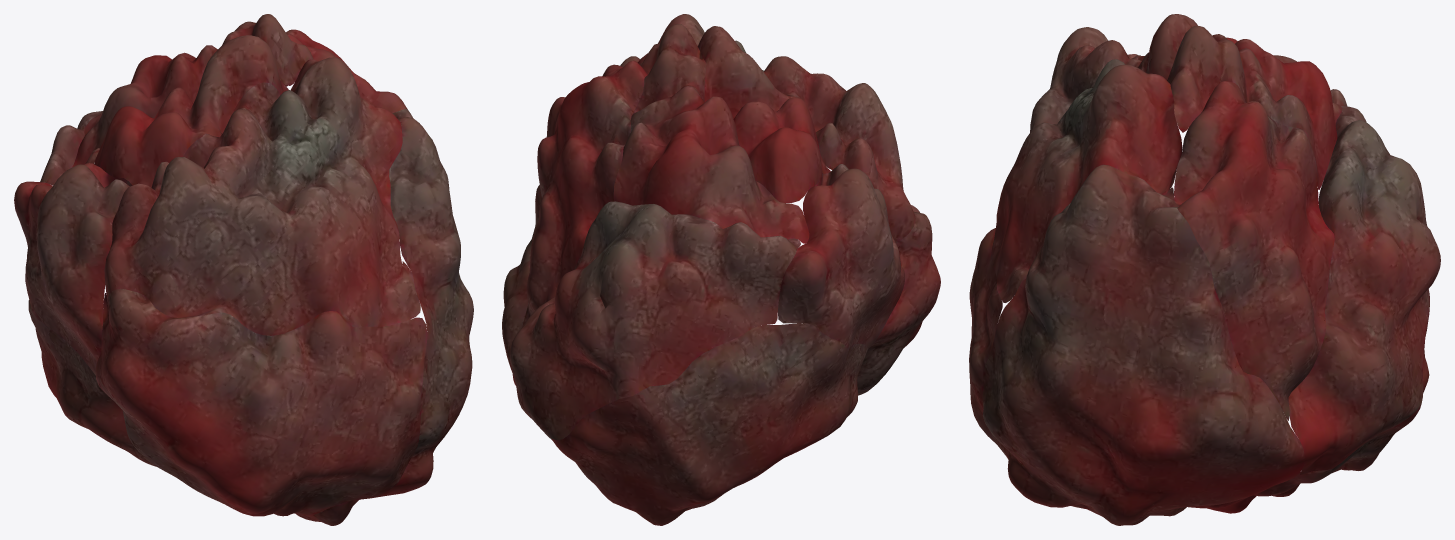
File: cinnabar.glb
The picture shows the model from 3 angles, left to right: view 1: azimuth 30°, elevation 25°; view 2: azimuth 150°, elevation 25°; view 3: azimuth 270°, elevation 25°; orthographic projection. The views are drawn at different scales.
Visible parts, largest first — view 1: SM_Cliff_01.001; view 2: SM_Cliff_01.001; view 3: SM_Cliff_01.001.
Part boxes in pixels (x1,y1,x2,y2): SM_Cliff_01.001: (14, 14, 473, 525); SM_Cliff_01.001: (502, 14, 940, 525); SM_Cliff_01.001: (969, 14, 1440, 525).
Bounding box in the file's own units: 0.3492 × 0.405 × 0.3515.
Materials: 1 (1 with a texture image).
